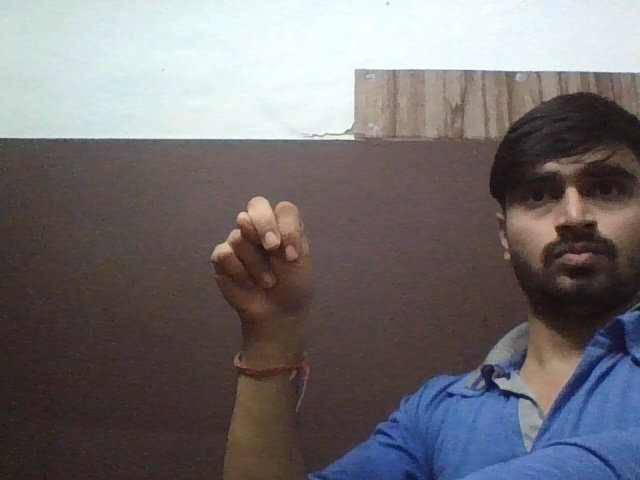N: (176, 193, 335, 325)
